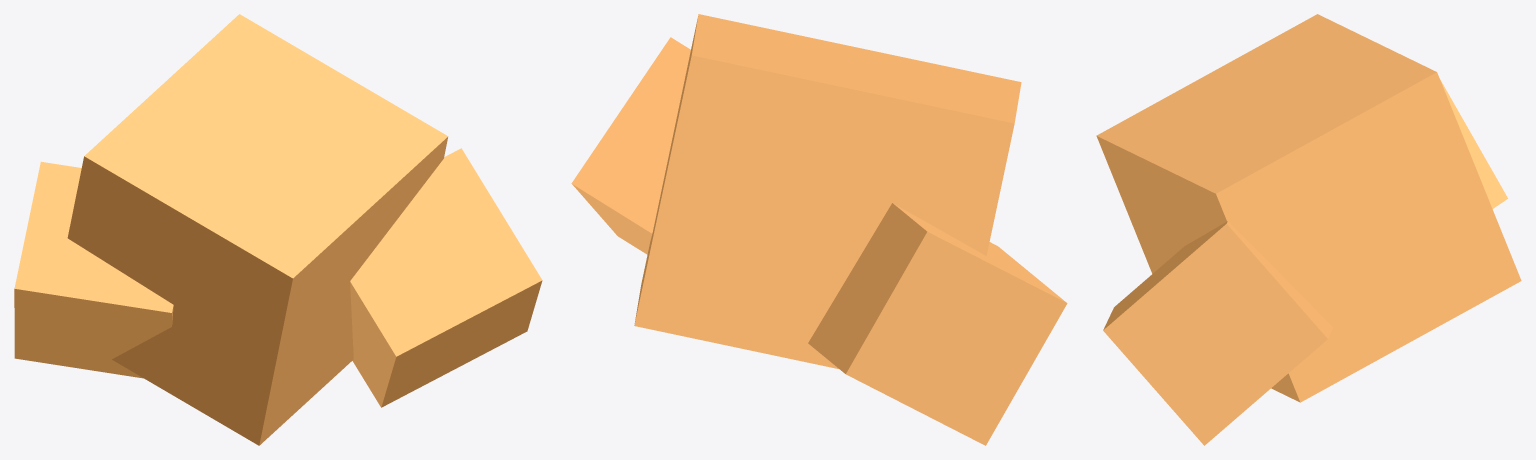
Rendered from ferrite-chunk.glb.
3 views of the same model, side by side, from view 1: azimuth 30°, elevation 25°; view 2: azimuth 150°, elevation 25°; view 3: azimuth 270°, elevation 25° (orthographic). The views are drawn at different scales.
Parts seen in each view (by area): view 1: pickup; view 2: pickup; view 3: pickup.
Part boxes in pixels (bbox=[...]): pickup: bbox=[14, 14, 542, 445]; pickup: bbox=[571, 14, 1067, 445]; pickup: bbox=[1096, 14, 1521, 445].
Size of the model in its own units: 0.4821 by 0.3346 by 0.3869.
